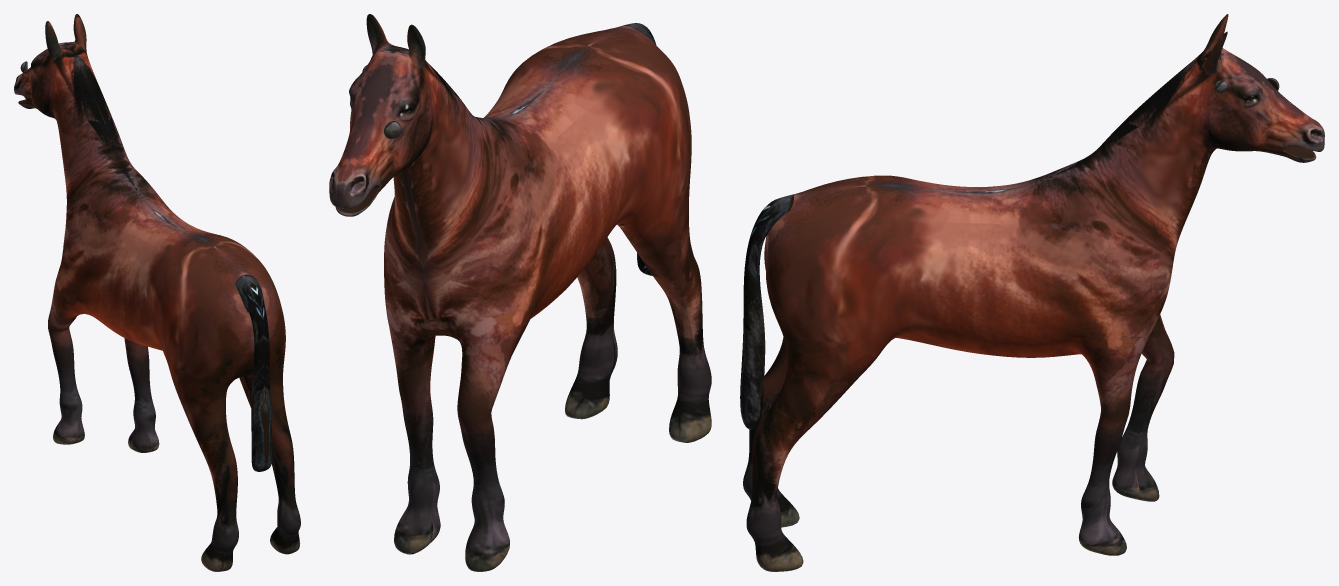
Rendered from horsefbx3.fbx.
3 renders of one model, left to right at view 1: azimuth 30°, elevation 25°; view 2: azimuth 150°, elevation 25°; view 3: azimuth 270°, elevation 25°, orthographic. The views are drawn at different scales.
Parts seen in each view (by area): view 1: 10026_Horse_v01-it2; view 2: 10026_Horse_v01-it2; view 3: 10026_Horse_v01-it2.
Boxes of the visible parts, x1,y1,x2,y2 form: 10026_Horse_v01-it2: (14, 14, 300, 571); 10026_Horse_v01-it2: (329, 14, 711, 571); 10026_Horse_v01-it2: (740, 14, 1324, 571).
Bounding box in the file's own units: 27.11 × 103 × 105.
1 material, 1 textured.
